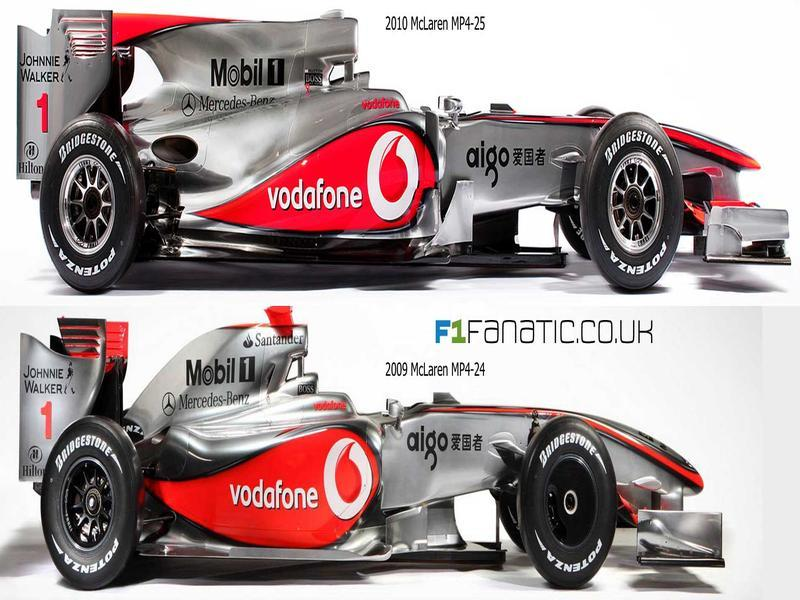f1: (22, 315, 776, 589), (15, 15, 792, 279)
